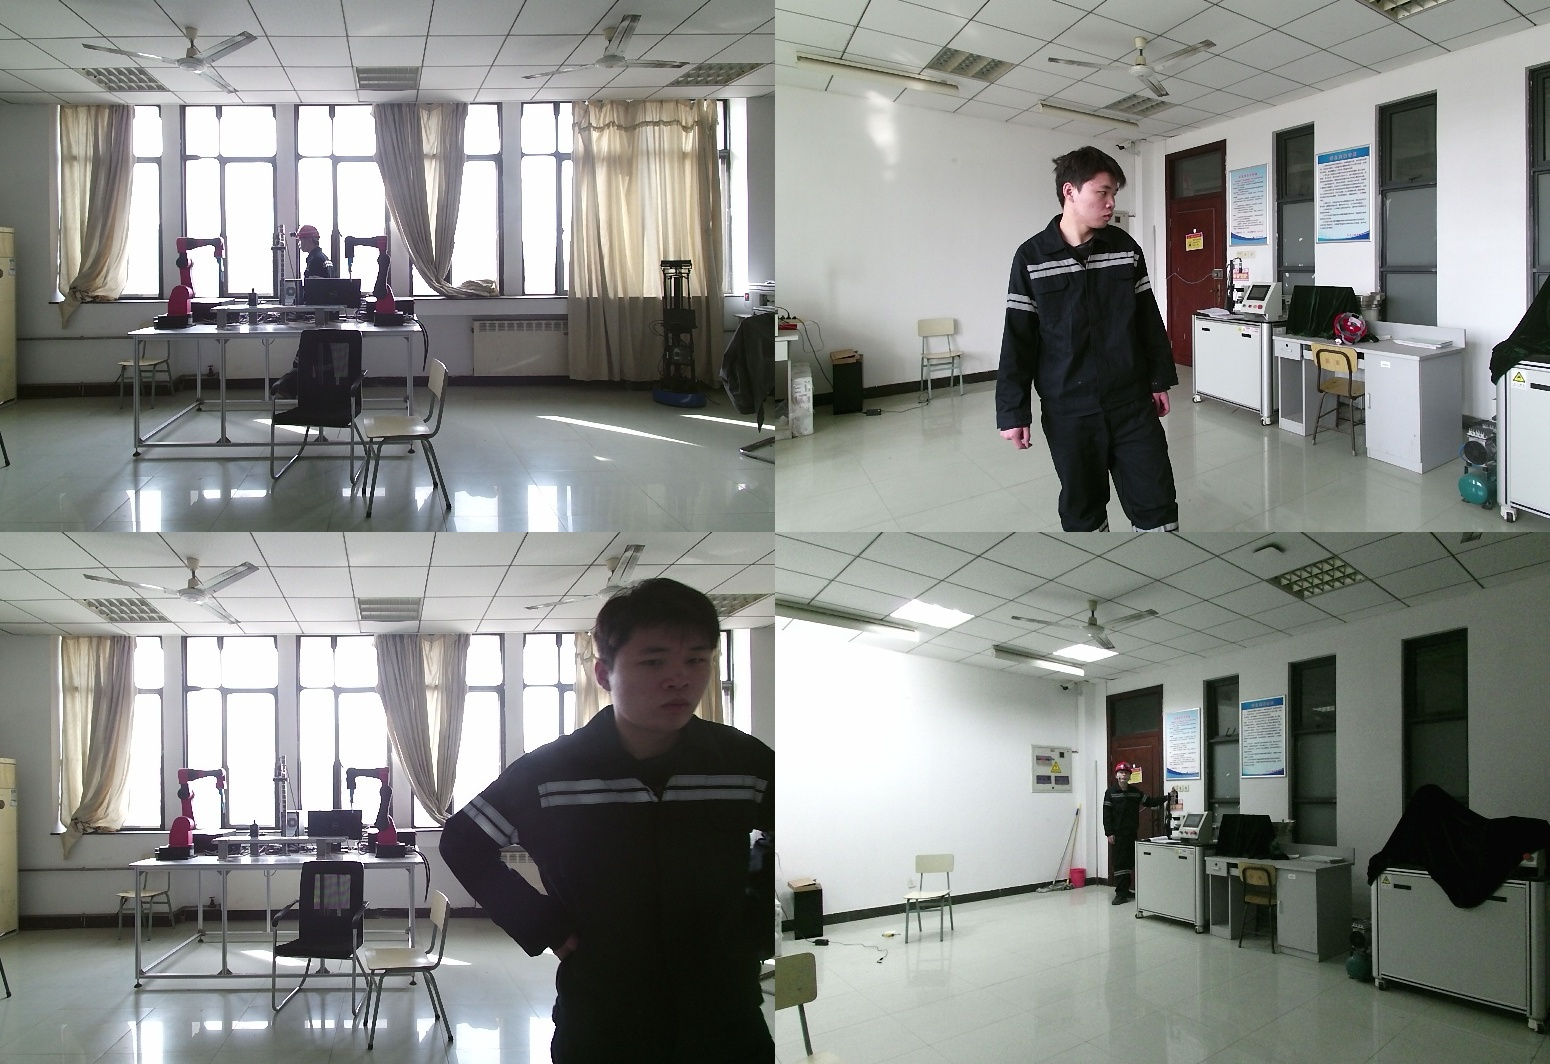person: (442, 581, 775, 1064), (999, 146, 1205, 532), (274, 224, 336, 398), (1099, 759, 1150, 907)
